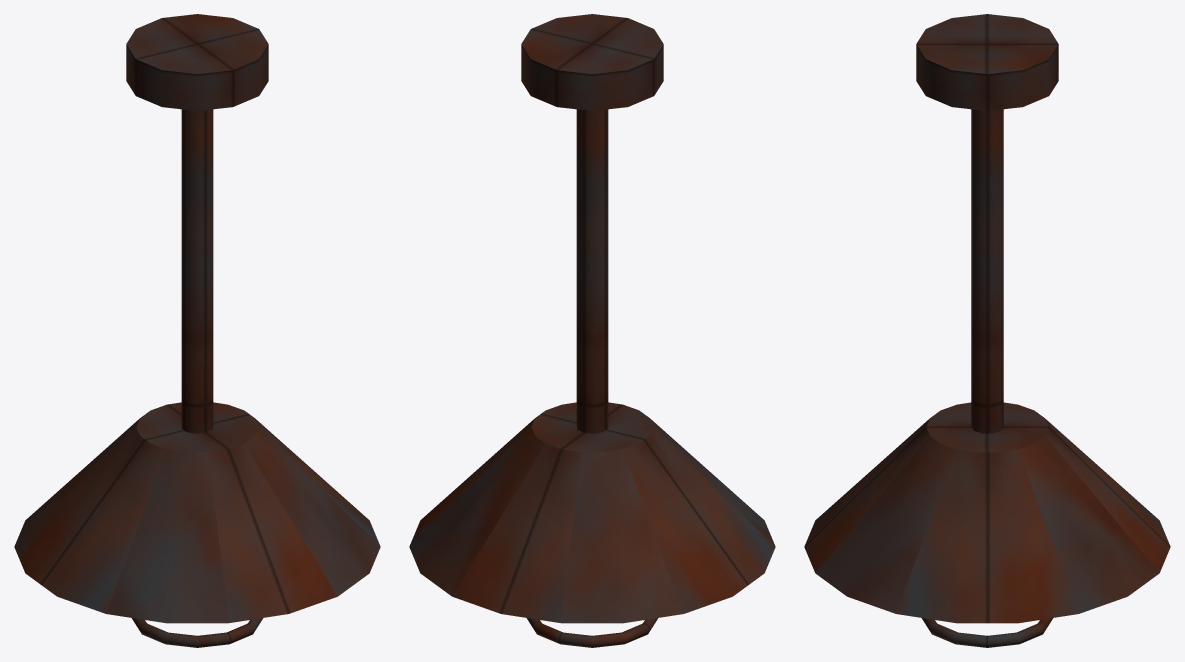
File: Prop_CeilingLamp.fbx
The picture shows the model from 3 angles, left to right: view 1: azimuth 30°, elevation 25°; view 2: azimuth 150°, elevation 25°; view 3: azimuth 270°, elevation 25°; orthographic projection.
Visible parts, largest first — view 1: Prop_CeilingLamp; view 2: Prop_CeilingLamp; view 3: Prop_CeilingLamp.
Boxes of the visible parts, box(x1,y1,x2,y2) form: Prop_CeilingLamp: box(14, 14, 380, 647); Prop_CeilingLamp: box(409, 14, 775, 647); Prop_CeilingLamp: box(804, 14, 1170, 647).
Bounding box in the file's own units: 0.7091 × 1.25 × 0.72.
